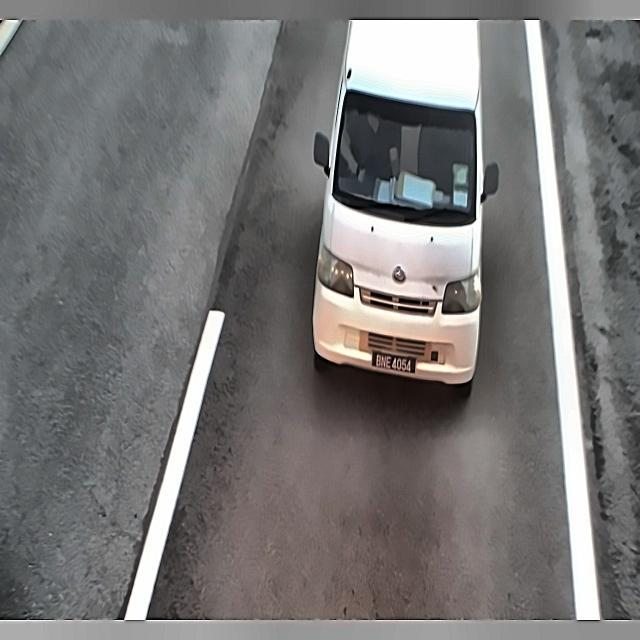car: (366, 346, 424, 383)
